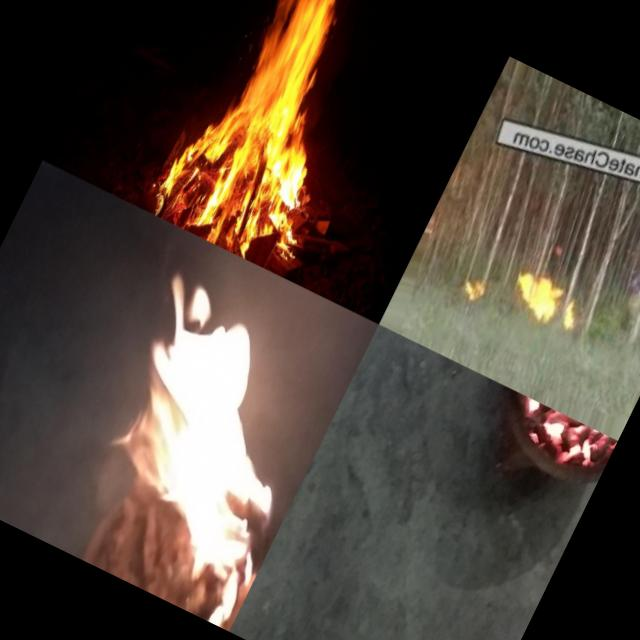fire: (35, 253, 364, 630), (146, 0, 407, 274), (502, 260, 588, 338), (456, 269, 498, 314)
